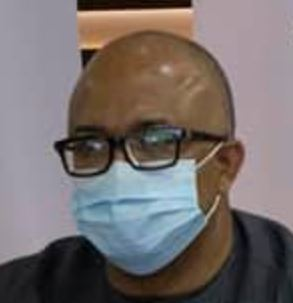with_facemask: (56, 165, 225, 282)
